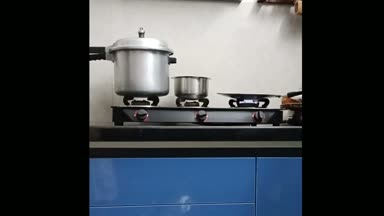flame_gas_off: (122, 95, 160, 123), (176, 97, 212, 123)
flame_gas_on: (233, 99, 273, 126)
